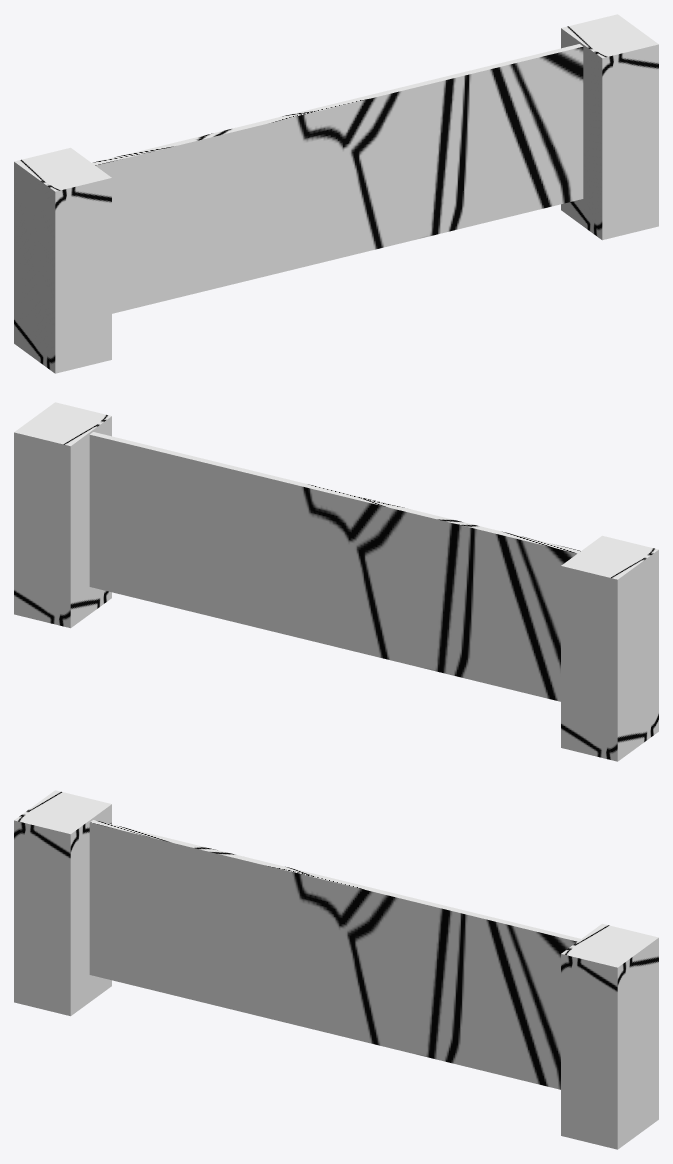
The picture shows the model from 3 angles, top to bottom: view 1: azimuth 30°, elevation 25°; view 2: azimuth 150°, elevation 25°; view 3: azimuth 330°, elevation 25°; orthographic projection.
Visible parts, largest first — view 1: 042, 043; view 2: 042, 043; view 3: 042, 043.
Boxes of the visible parts, <box> form: 042: <box>92,44,583,313</box>; 043: <box>14,14,658,373</box>; 042: <box>89,432,580,701</box>; 043: <box>14,402,658,761</box>; 042: <box>89,820,580,1089</box>; 043: <box>14,790,658,1149</box>.
Size of the model in its own units: 2167 by 256 by 624.
